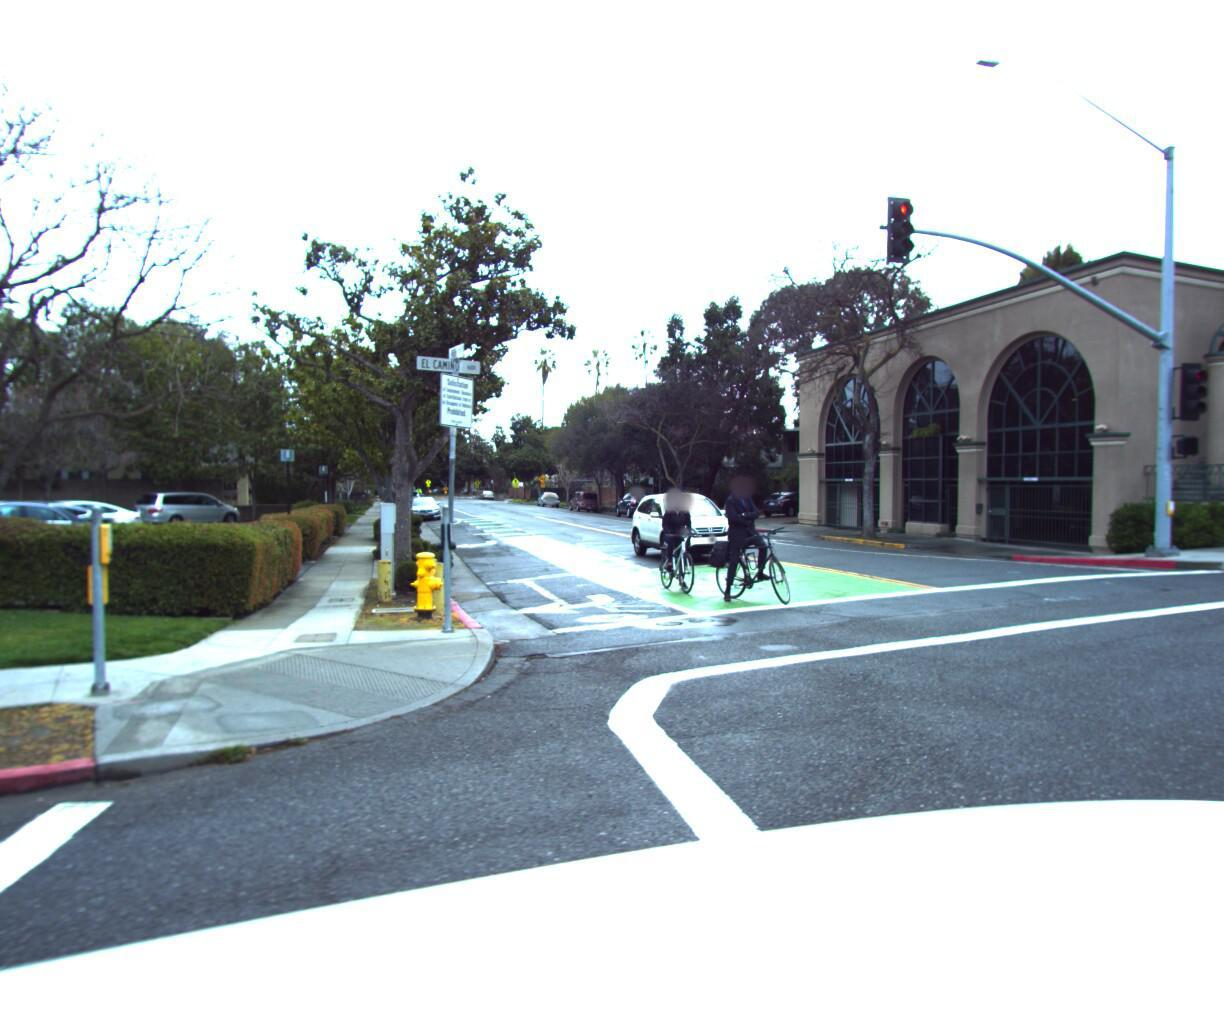bicycle: (687, 466, 825, 611), (621, 475, 730, 599)
car: (623, 483, 755, 563), (129, 487, 246, 532), (759, 485, 829, 516), (614, 487, 664, 518), (410, 492, 444, 523), (566, 485, 602, 508), (535, 484, 563, 503)
